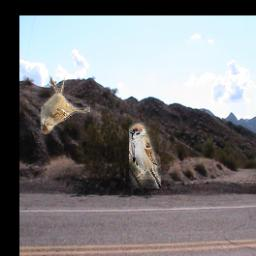Sparrow: (40, 76, 91, 135), (130, 123, 162, 188)
